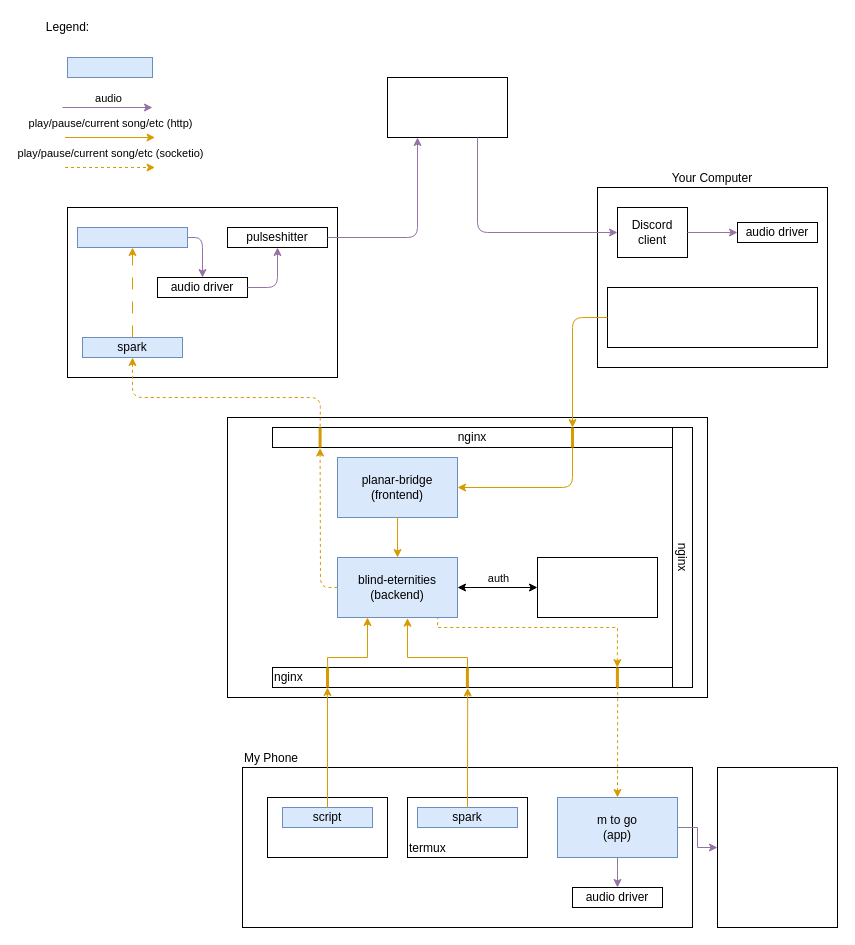
Image size: 855x945. Some labels were removed from this diagram. The box of each missing label's shape, as (x1, y1, x2, y2) in pixels:
browser @ planar-bridge.mendes.xyz: (606, 286, 818, 348)
BT speaker: (716, 766, 838, 928)
Discord Server: (386, 76, 508, 138)
I made this: (66, 56, 152, 78)
m (music player): (76, 226, 188, 248)
My Computer: (66, 206, 338, 378)
My Server: (226, 416, 708, 698)
postgres (database): (536, 556, 658, 618)
Tasker: (266, 796, 388, 858)
